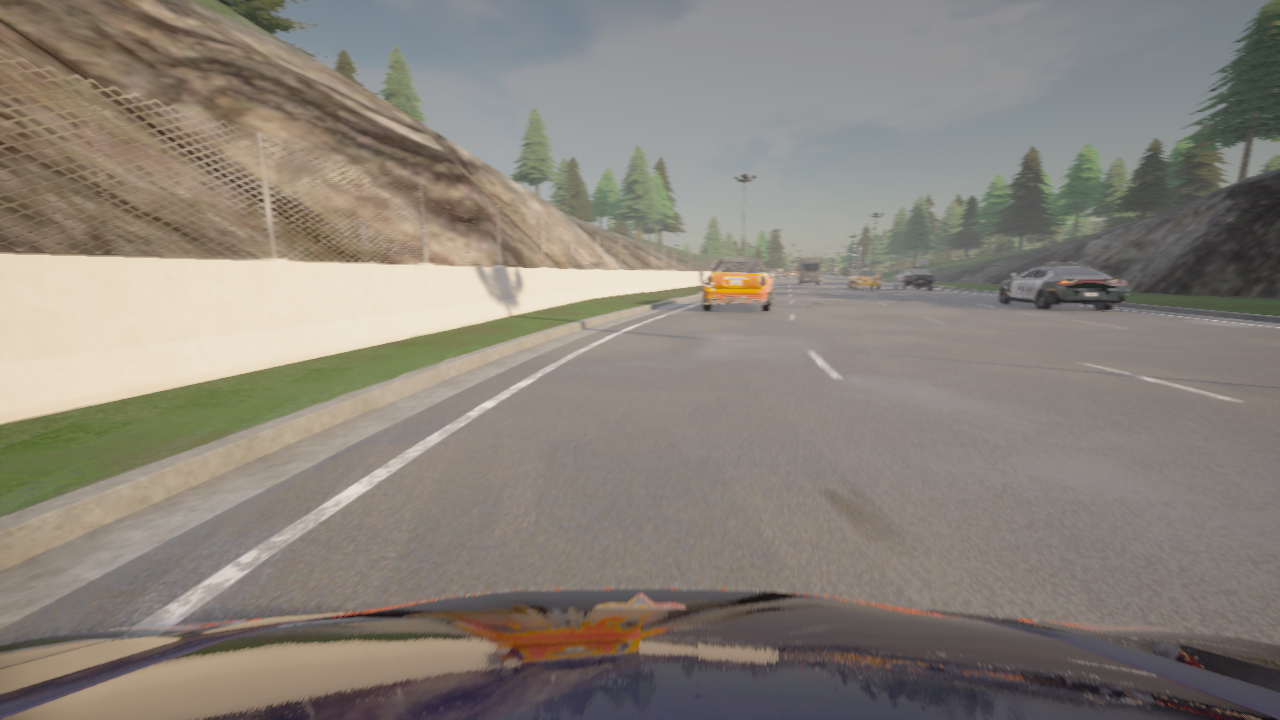cyclist: (0, 588, 1279, 719), (997, 264, 1128, 310), (701, 254, 774, 312), (893, 267, 933, 289), (848, 268, 881, 289), (796, 258, 820, 285)
